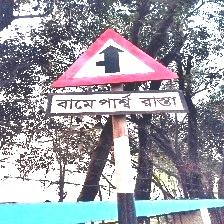Side-road-left: (48, 26, 186, 120)
